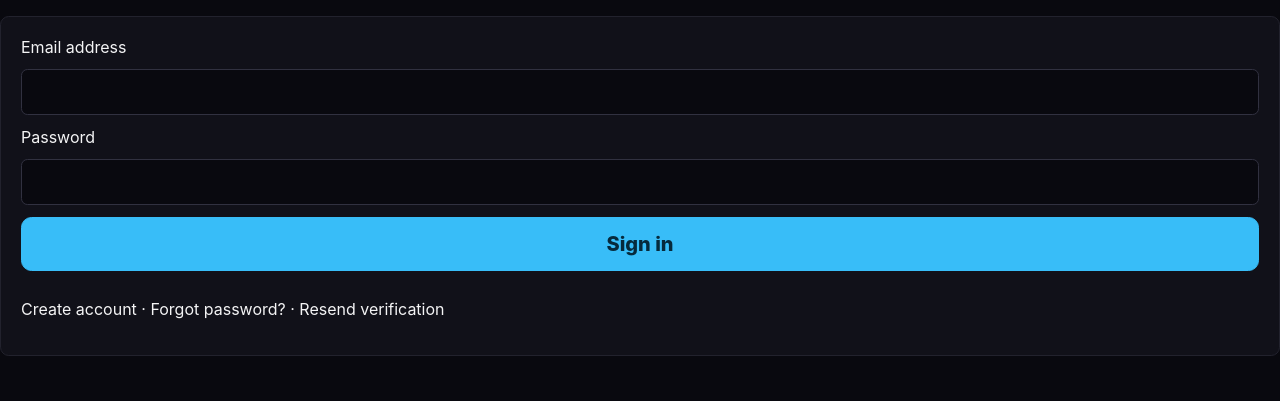
Scenario: moves focus to the failure alert even when a frame paints before it renders
In the field labelled "Email address": (640, 92) [21, 69, 1259, 115], type "ryan@example.test"
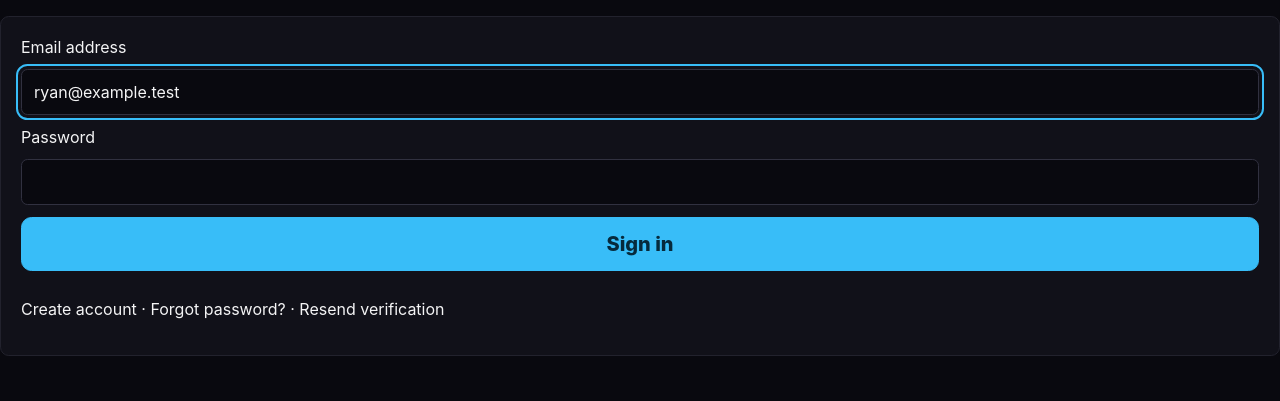
In the password field labelled "Password": (640, 182) [21, 159, 1259, 205], type "abcdef"
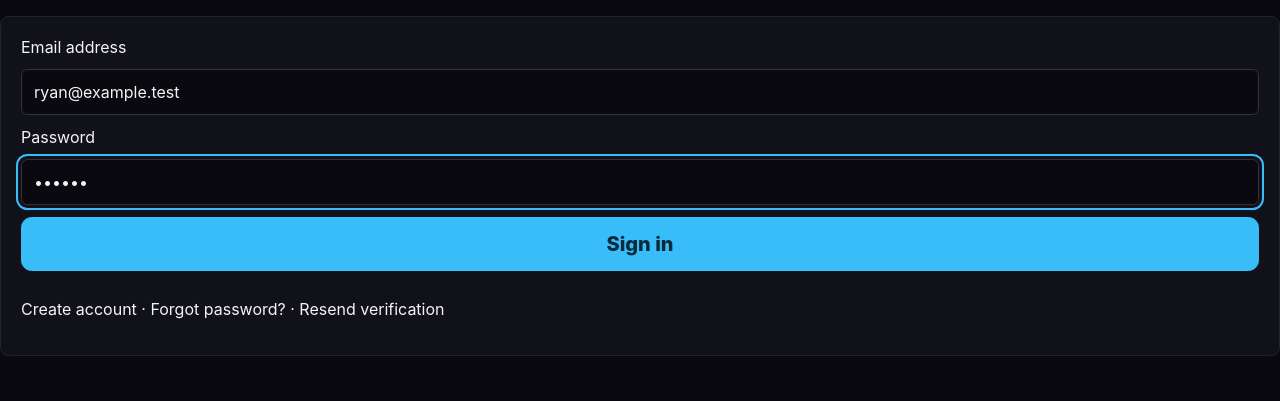
Click the button "Sign in": (640, 244) [21, 217, 1259, 271]
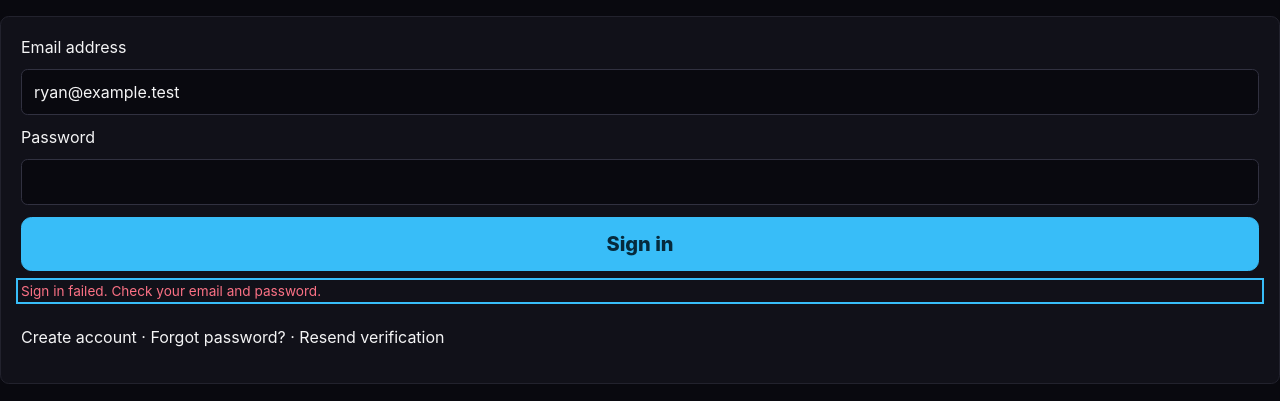
Expected: the message reads "Sign in failed. Check your email and password.", [21, 283, 321, 299]
